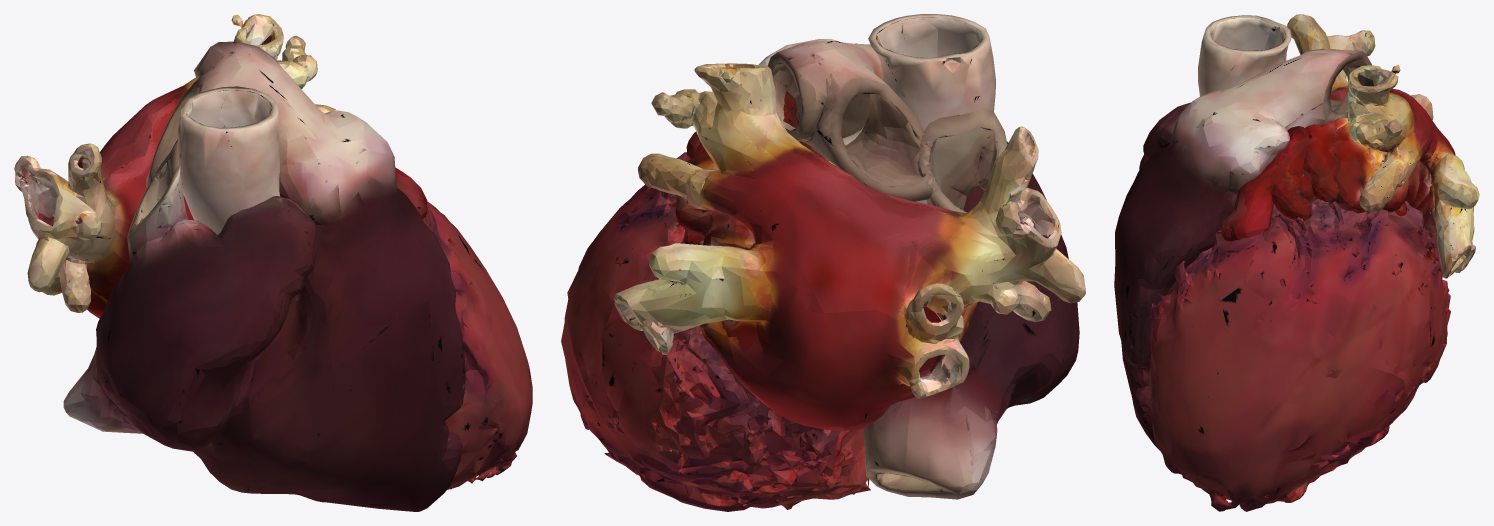
Rendered from heart2.fbx.
3 renders of one model, left to right at view 1: azimuth 30°, elevation 25°; view 2: azimuth 150°, elevation 25°; view 3: azimuth 270°, elevation 25°, orthographic. The views are drawn at different scales.
Parts seen in each view (by area): view 1: APIL HEART 1 AORTA Edit; view 2: APIL HEART 1 AORTA Edit; view 3: APIL HEART 1 AORTA Edit.
Boxes of the visible parts, x1,y1,x2,y2 form: APIL HEART 1 AORTA Edit: [14, 14, 532, 511]; APIL HEART 1 AORTA Edit: [561, 14, 1085, 511]; APIL HEART 1 AORTA Edit: [1114, 14, 1479, 511].
Size of the model in its own units: 16432 by 14787 by 13005.
